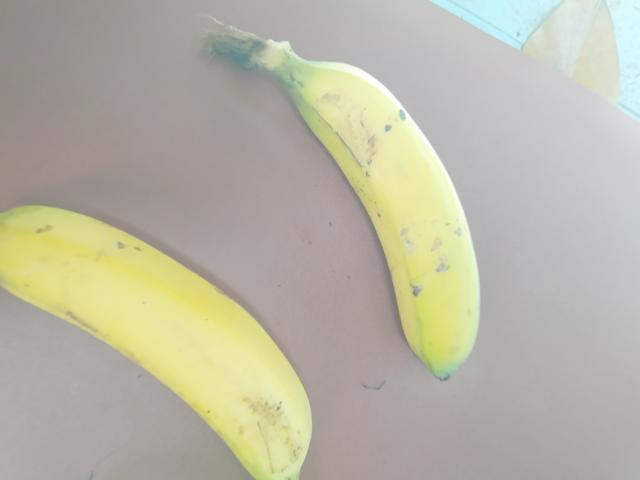freshripe: (2, 192, 342, 479)
ripe: (274, 36, 496, 357)
